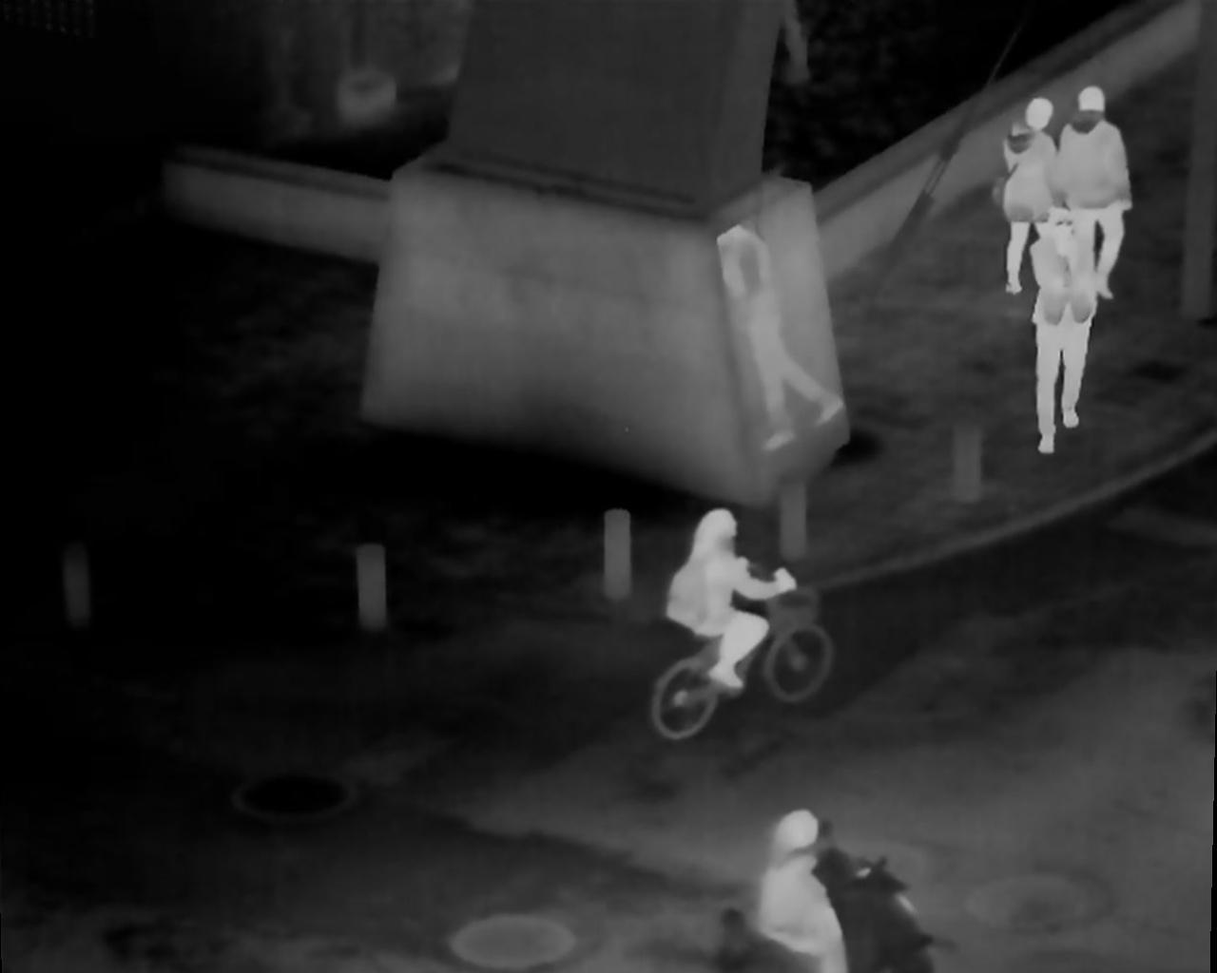person: (671, 511, 804, 696), (1032, 211, 1105, 455), (990, 93, 1072, 289), (1062, 88, 1126, 293), (763, 806, 841, 971)
